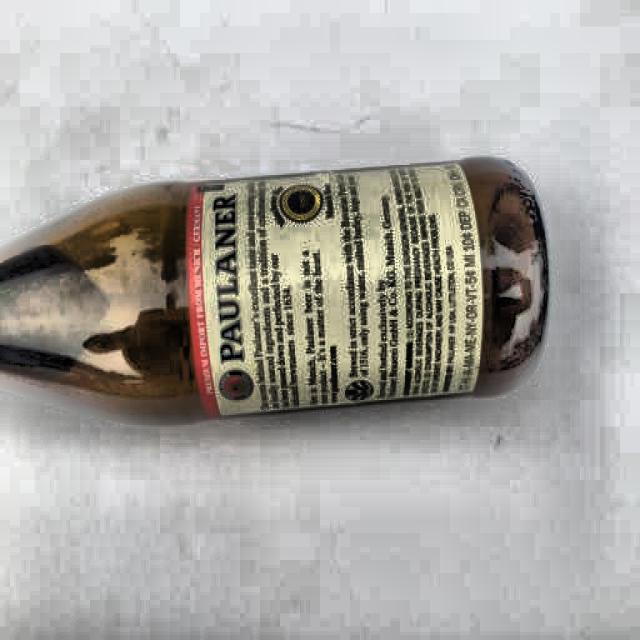glass: (0, 154, 555, 426)
